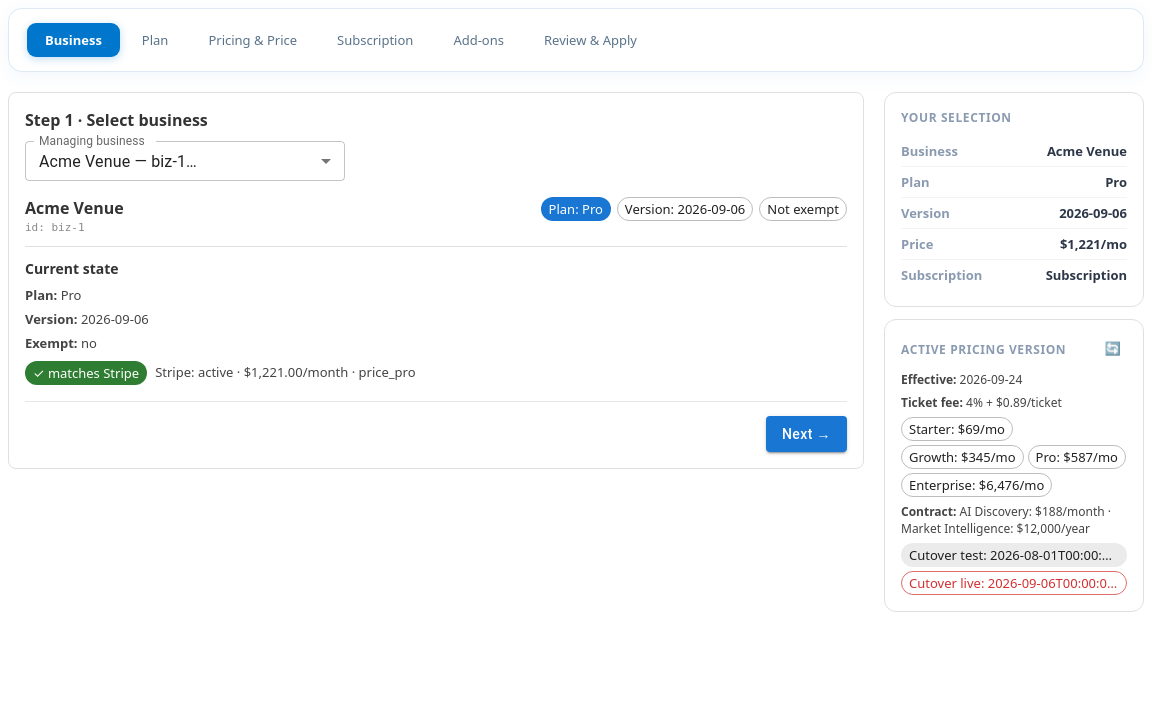
Test: PricingConsole (guided stepped workflow) › renders the 6-step bar; Next advances, Back returns, clicking a completed step navigates
Expected: the button "Business" is shown, top-left (27, 23), bottom-right (120, 57)
Expected: the button "Plan" is shown, top-left (124, 23), bottom-right (186, 57)
Step 1. Click the button with test id "pc-next" → coordinates (806, 434), box top-left (766, 416), bottom-right (847, 452)
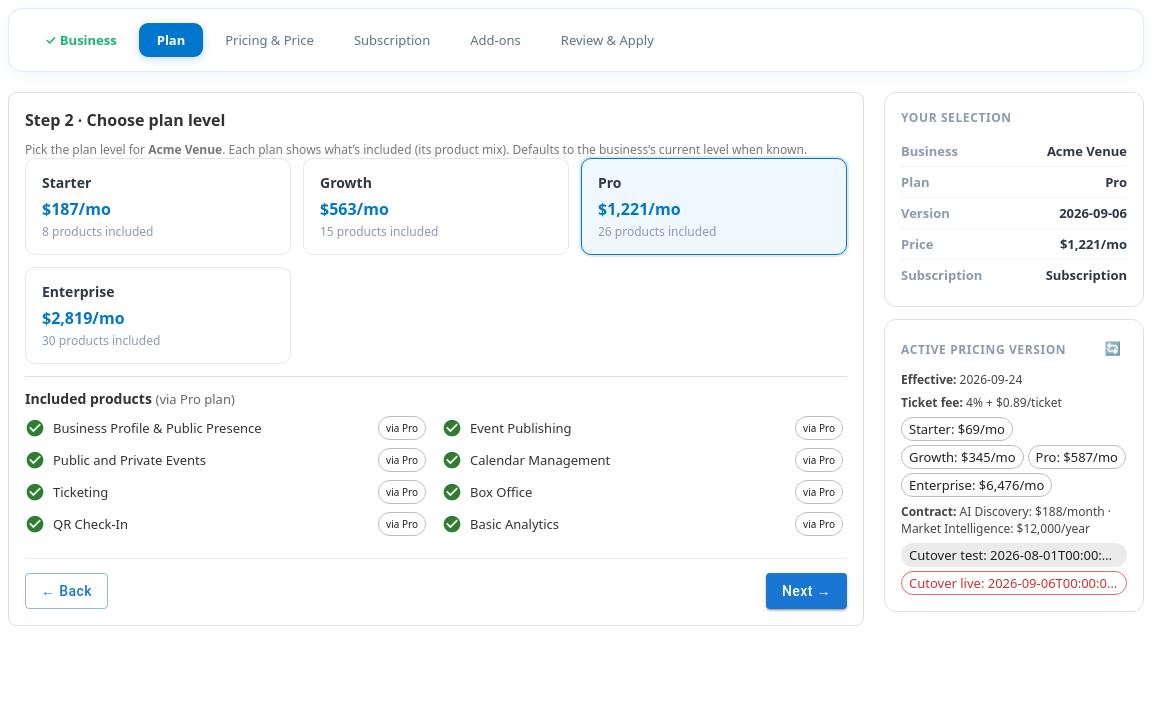
Now the element with test id "pc-panel-2" is shown, box top-left (8, 92), bottom-right (864, 626)
Now the button with test id "pc-step-1" shows "✓", box top-left (27, 23), bottom-right (135, 57)
Step 2. Click the button with test id "pc-back" → coordinates (66, 591), box top-left (25, 572), bottom-right (108, 609)
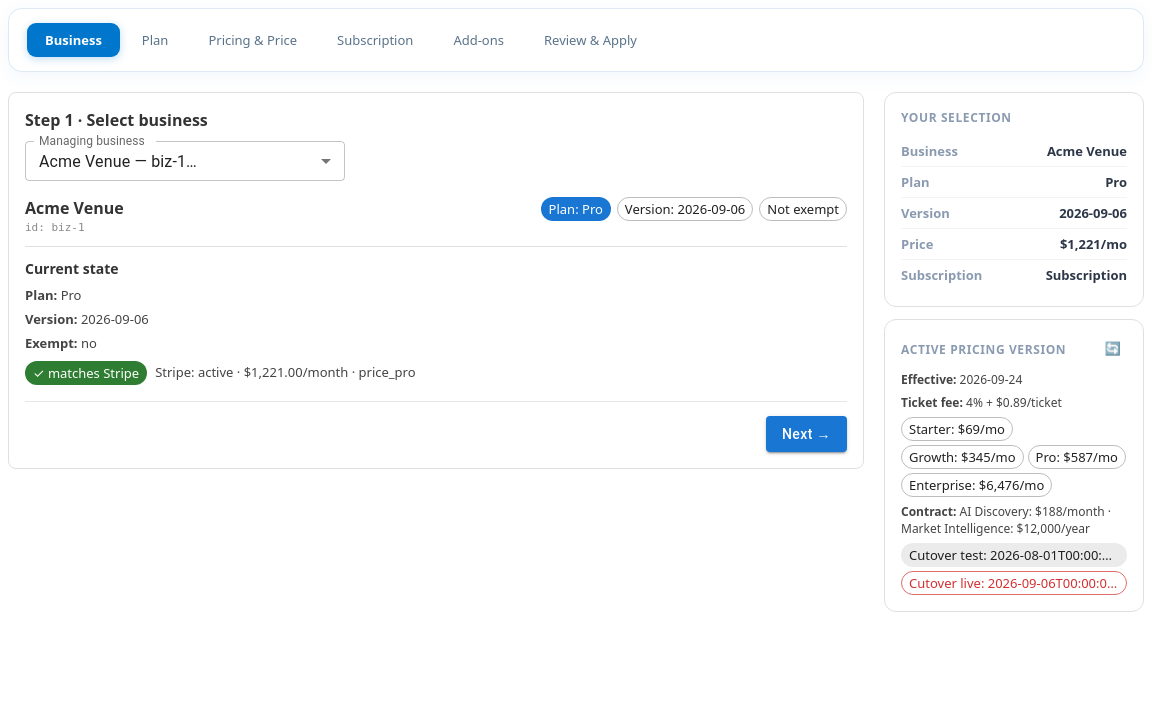
Now the element with test id "pc-panel-1" is shown, box top-left (8, 92), bottom-right (864, 469)
Step 3. Click the button with test id "pc-next" → coordinates (806, 434), box top-left (766, 416), bottom-right (847, 452)
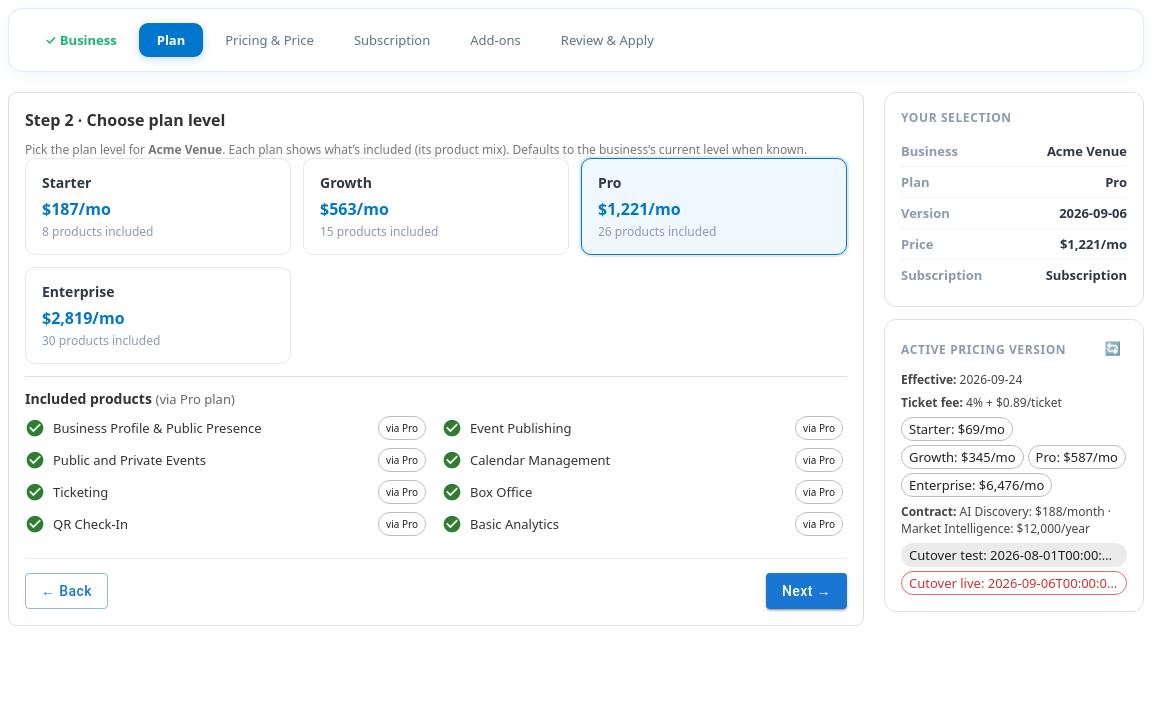
Step 4. Click the button with test id "pc-next" → coordinates (806, 591), box top-left (766, 572), bottom-right (847, 609)
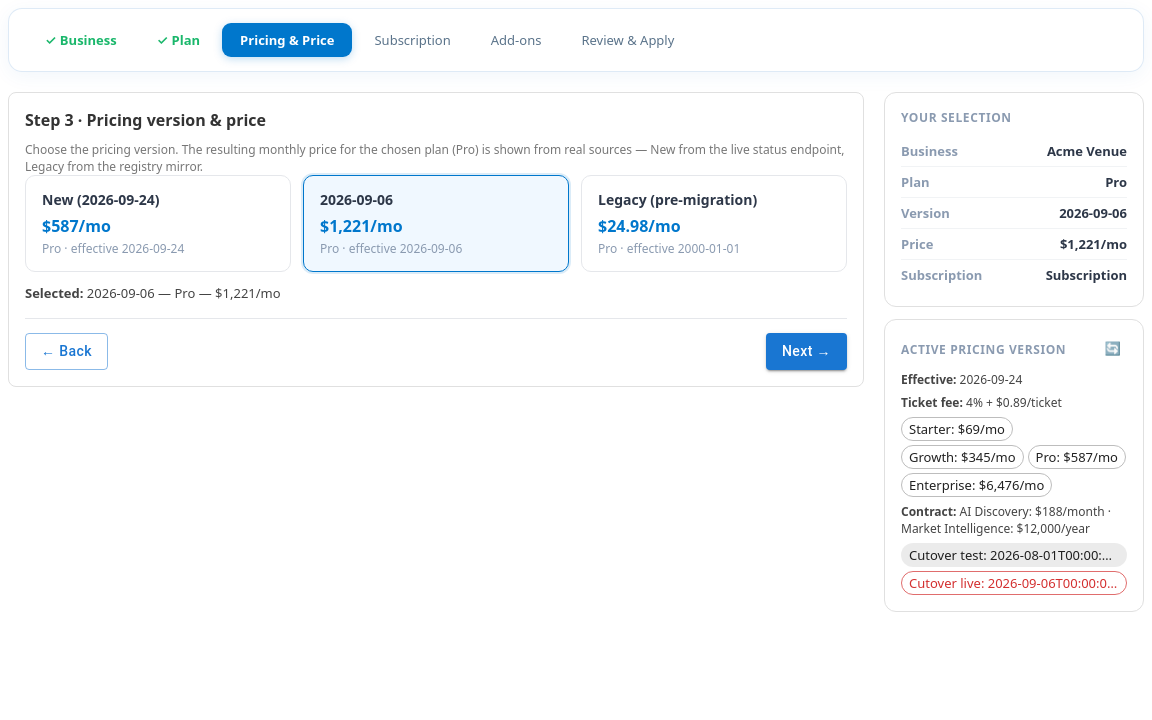
Now the element with test id "pc-panel-3" is shown, box top-left (8, 92), bottom-right (864, 386)
Step 5. Click the button with test id "pc-step-1" → coordinates (81, 40), box top-left (27, 23), bottom-right (135, 57)
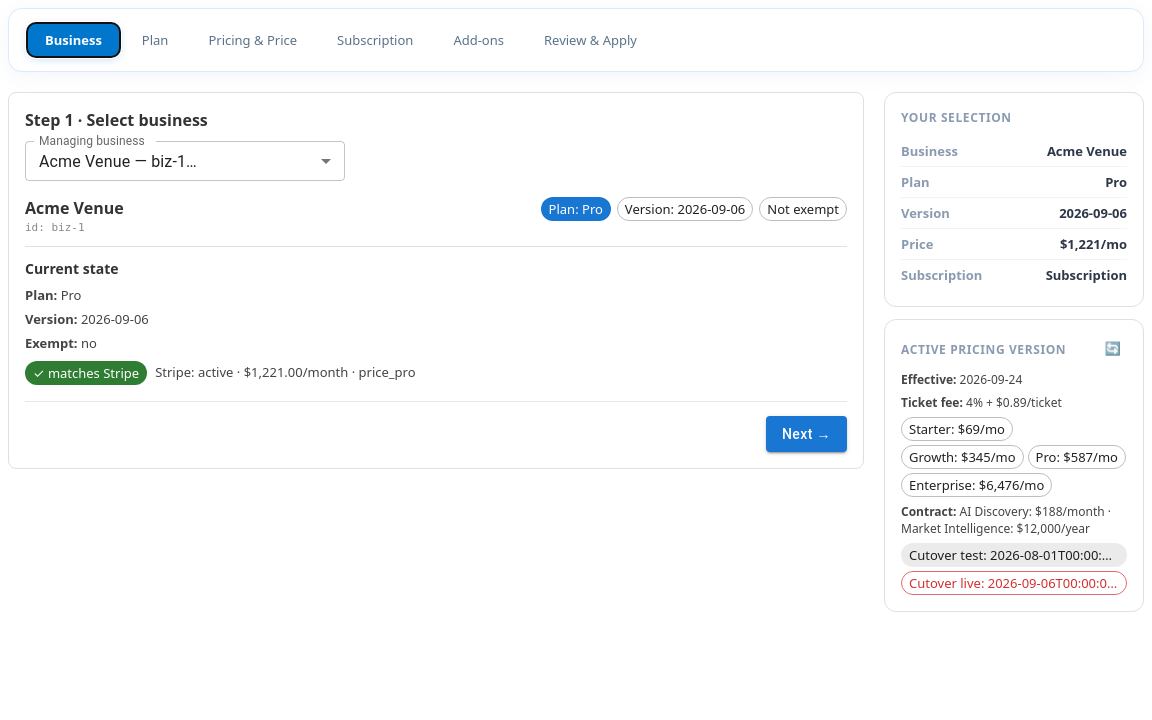
Now the element with test id "pc-panel-1" is shown, box top-left (8, 92), bottom-right (864, 469)
